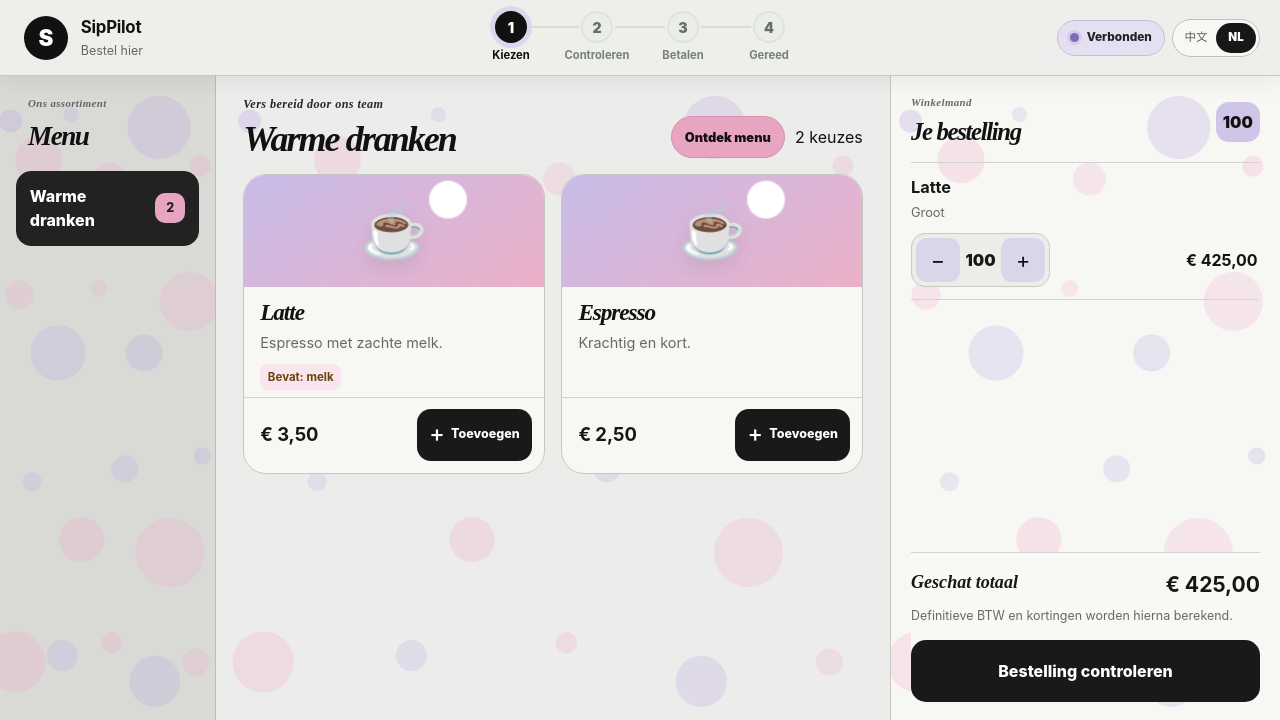
Test: Customer kiosk ordering workflow › enforces the backend limit of 100 total cart items
Expected: the heading "Warme dranken" is shown, [243,121,456,158]
Click the button with aria-label "Espresso toevoegen". click: {"x": 793, "y": 435}
box: [735,409,850,461]
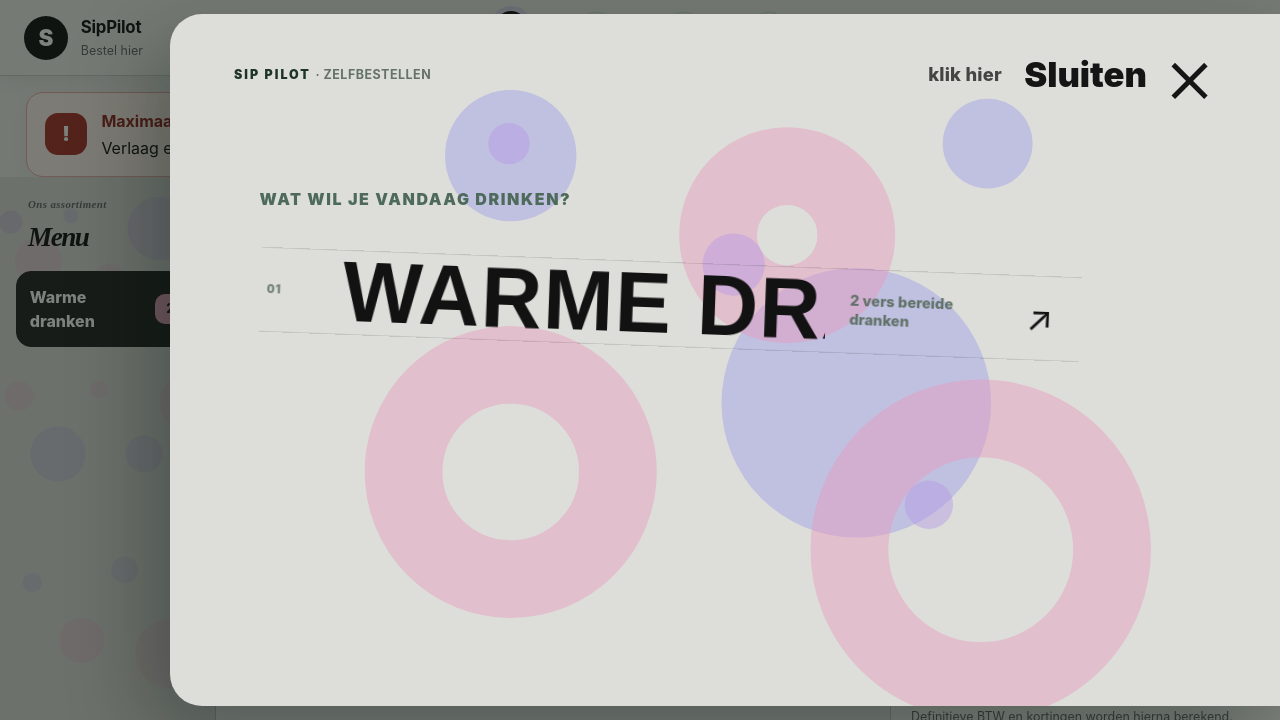
Expected: the message shows "Maximaal 100 producten", [101,111,294,131]
